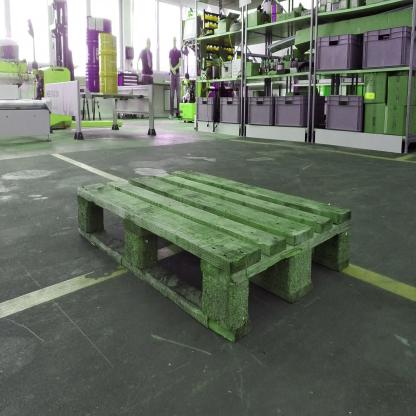BoxFace: (74, 163, 354, 348)
